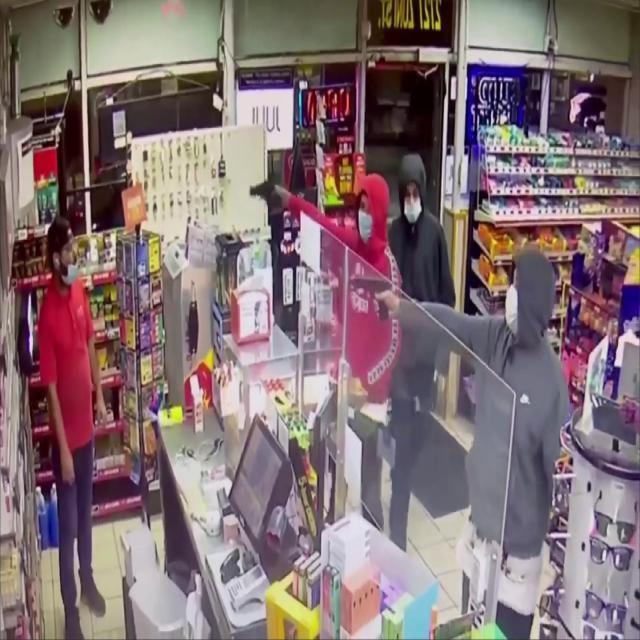weapon: (352, 275, 396, 321), (246, 182, 282, 214)
